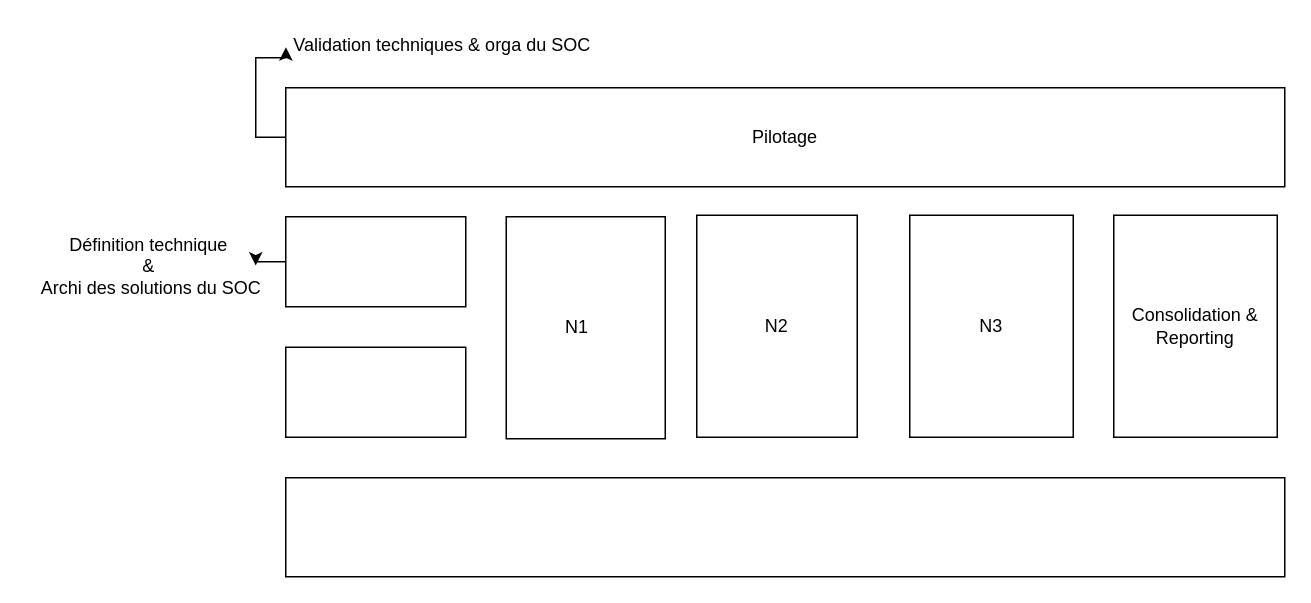
This 1311x603 diagram has some shape labels left out. The box of each missing label's shape, as (x1, y1, x2, y2) in pixels:
Architecture: (284, 215, 466, 307)
Context: (284, 476, 1285, 577)
Outils: (284, 346, 466, 437)
